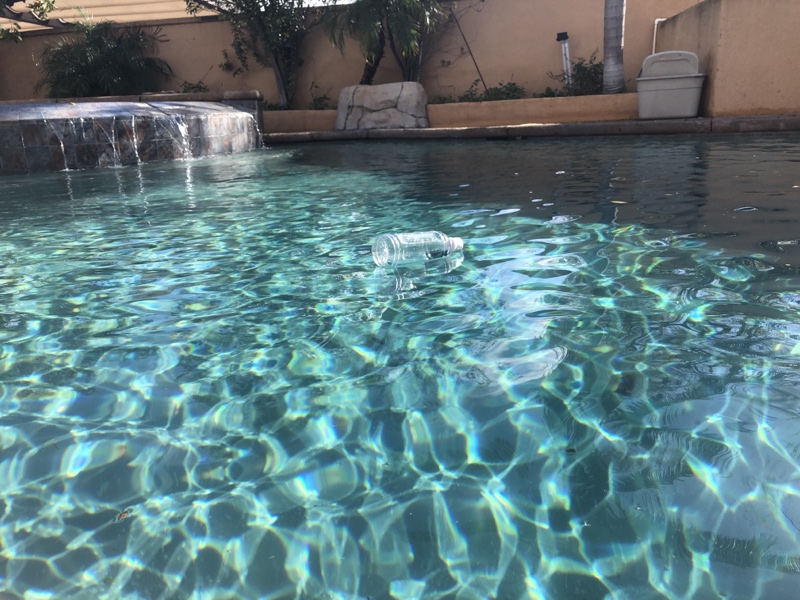Plastic Bottle: (368, 228, 465, 270)
